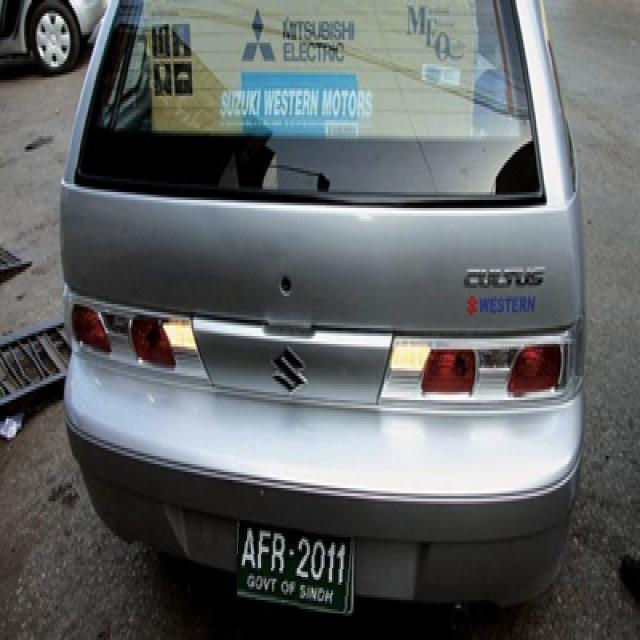licence: (237, 520, 355, 613)
